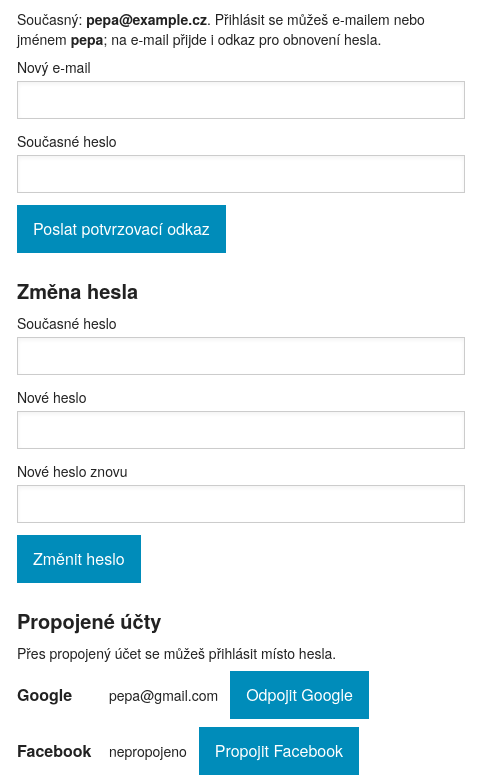
Scenario: linked accounts: disconnect Google, connect Facebook by redirect
(page scrolled)
Check: the text "pepa@gmail.com" is shown, box [109,685,218,705]
What coordinates should you click on to do the following:
click the button "Propojit Facebook"
I would click on:
 (279, 751)
Its box is [199,727,359,774].
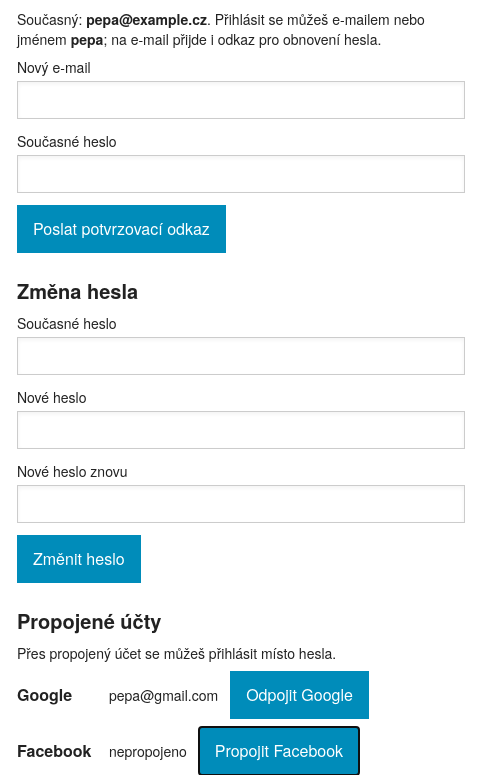
What coordinates should you click on to do the following:
click the button "Odpojit Google"
I would click on:
 (299, 695)
Its box is [230,671,369,719].
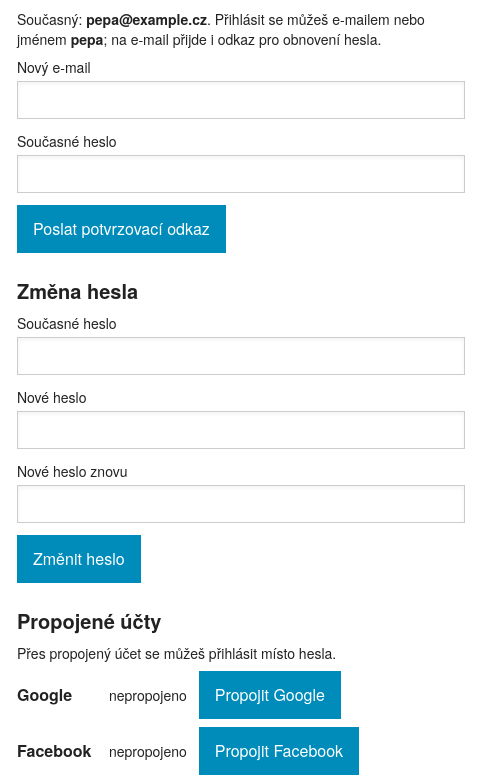
Check: the button "Propojit Google" is shown, box [199,671,341,719]
